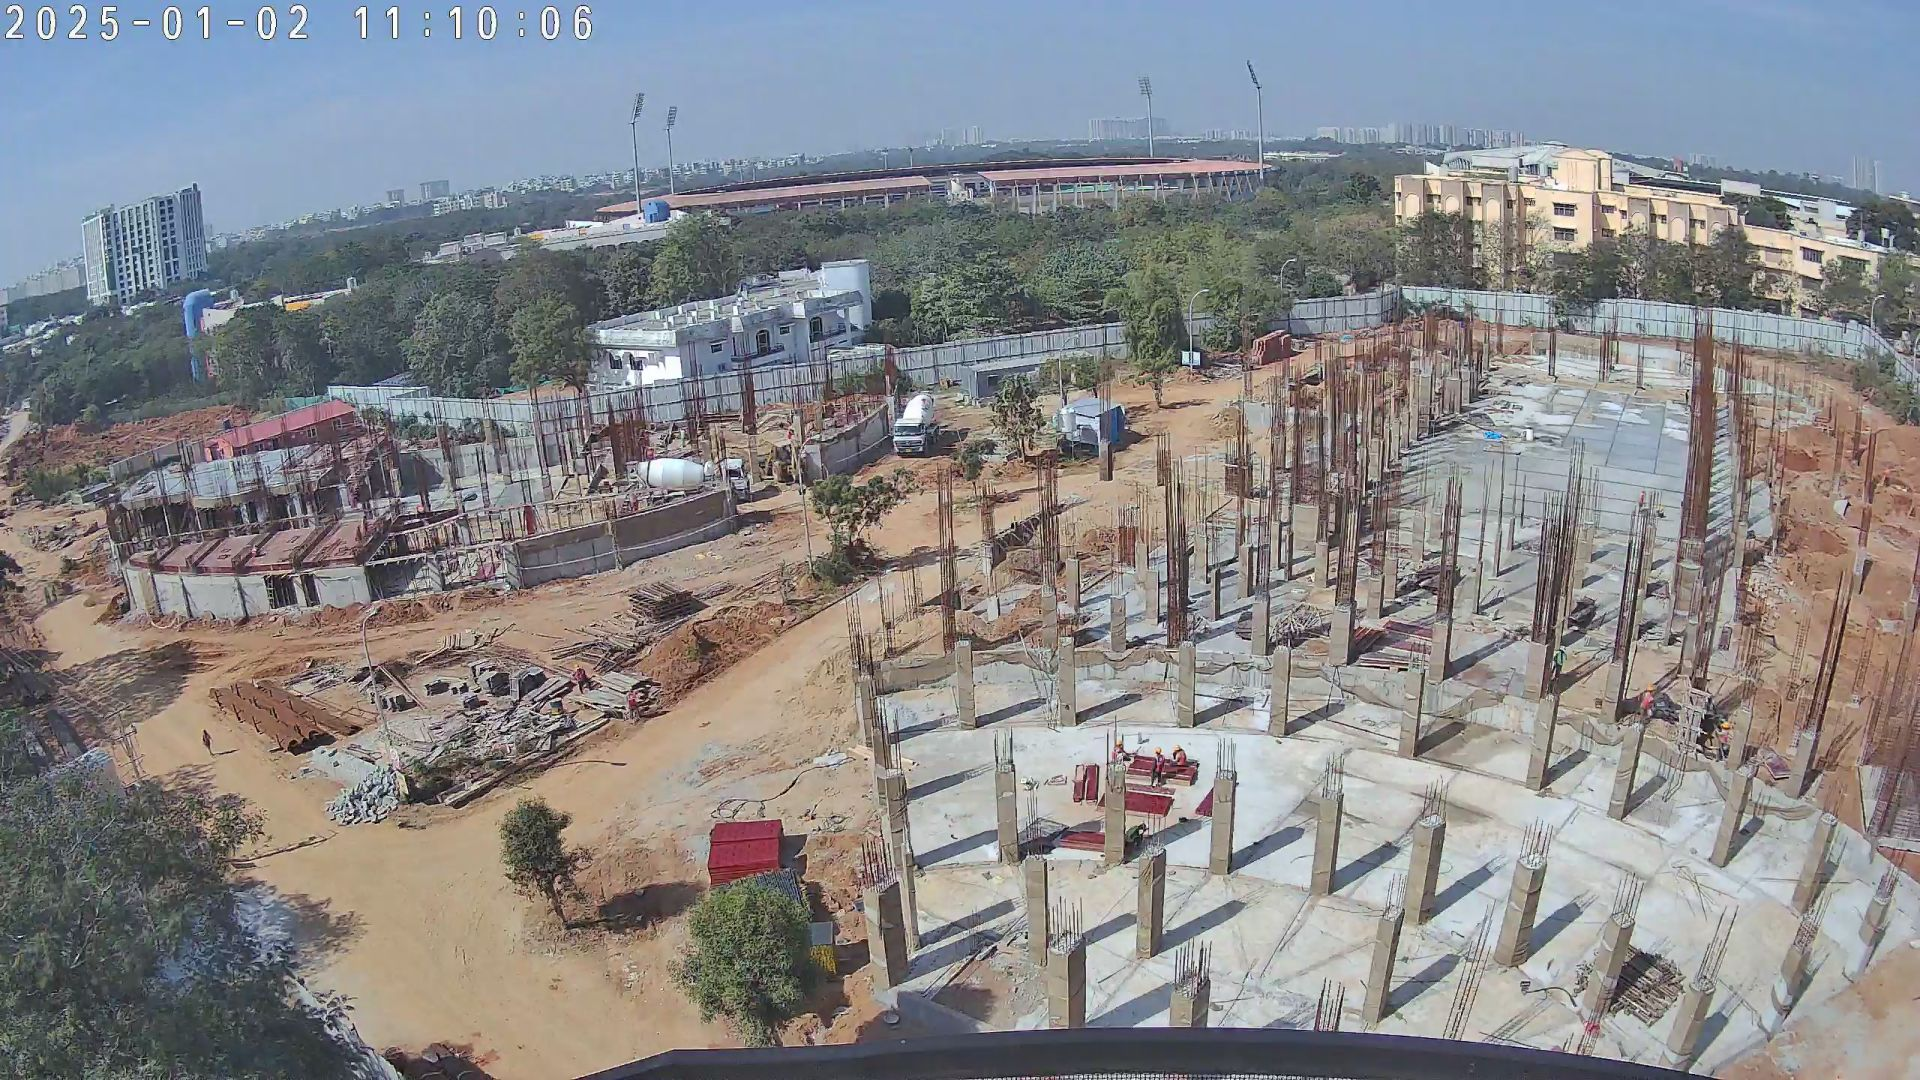truck: (630, 454, 754, 508), (887, 388, 943, 460)
worker: (1635, 680, 1657, 731), (1712, 715, 1734, 765), (1147, 745, 1170, 792), (569, 665, 597, 696), (1110, 736, 1137, 768), (197, 727, 223, 760), (1549, 642, 1569, 684), (625, 686, 643, 725), (1167, 739, 1189, 768), (1682, 388, 1691, 414), (412, 502, 427, 516), (352, 524, 363, 543), (360, 516, 371, 535), (786, 424, 793, 445)
